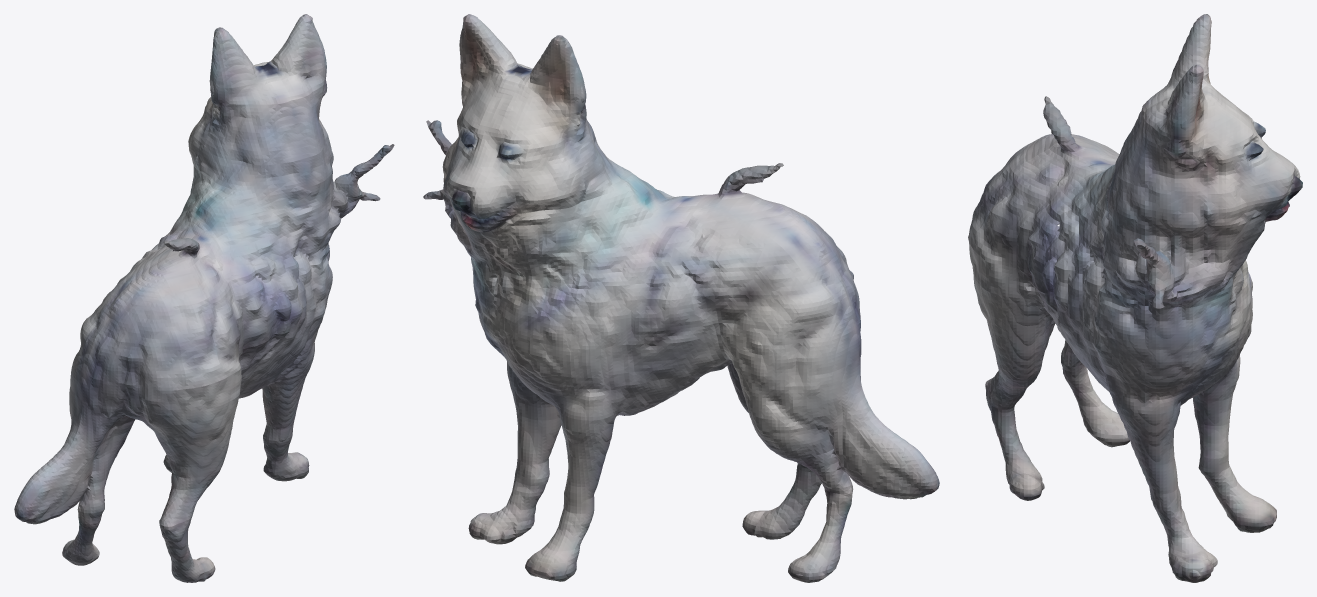
The model's file is triposr_3q_raw.glb.
3 renders of one model, left to right at view 1: azimuth 30°, elevation 25°; view 2: azimuth 150°, elevation 25°; view 3: azimuth 270°, elevation 25°, orthographic. The views are drawn at different scales.
Visible parts, largest first — view 1: world; view 2: world; view 3: world.
Boxes of the visible parts, x1=… form: world: x1=14, y1=14, x2=394, y2=582; world: x1=423, y1=14, x2=939, y2=582; world: x1=968, y1=14, x2=1302, y2=582.
Bounding box in the file's own units: 0.9246 × 1.01 × 0.5686.
